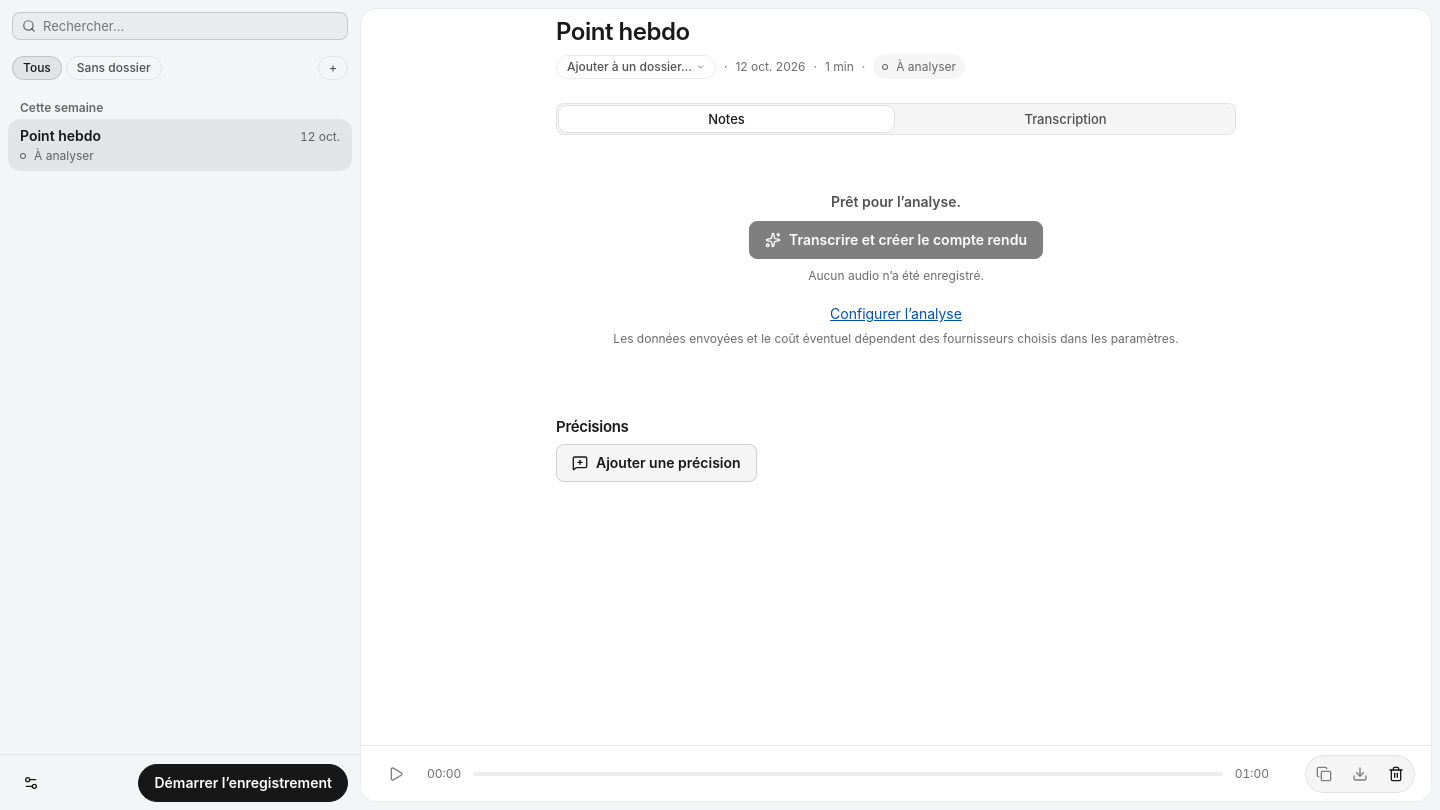
Test: Recording from the list pane › shows the recording in the card and locks the pane meanwhile
Click the button "Démarrer l’enregistrement" at (243, 782), box 138,764 -> 348,802
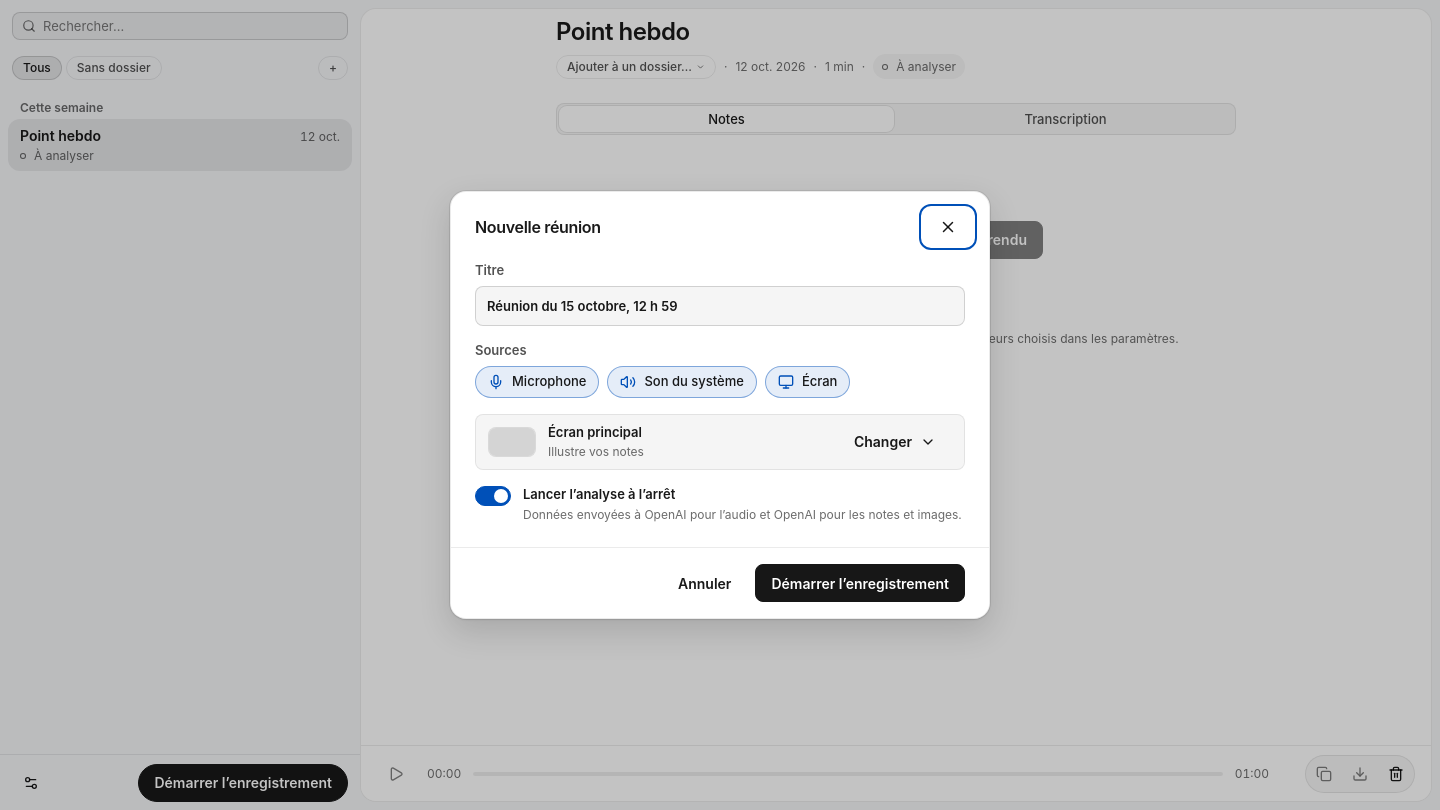
Now the switch is shown, box 475,486 -> 965,523
Replace the text in the field labelled "Titre" with "Revue du vendredi" at (720, 306), box 475,286 -> 965,326
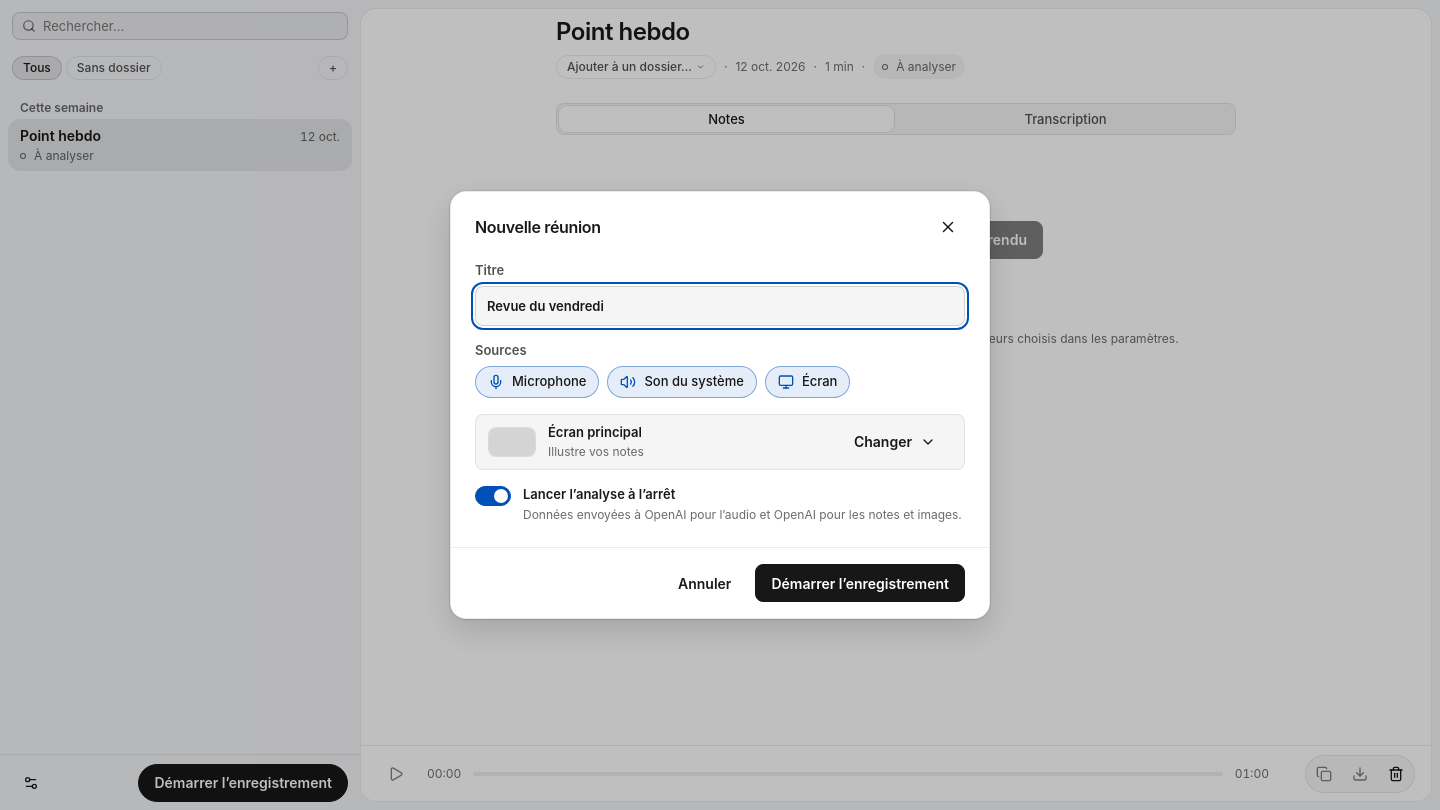
Now the button "Démarrer l’enregistrement" is enabled
Click the button "Démarrer l’enregistrement" at (860, 583), box 755,564 -> 965,602
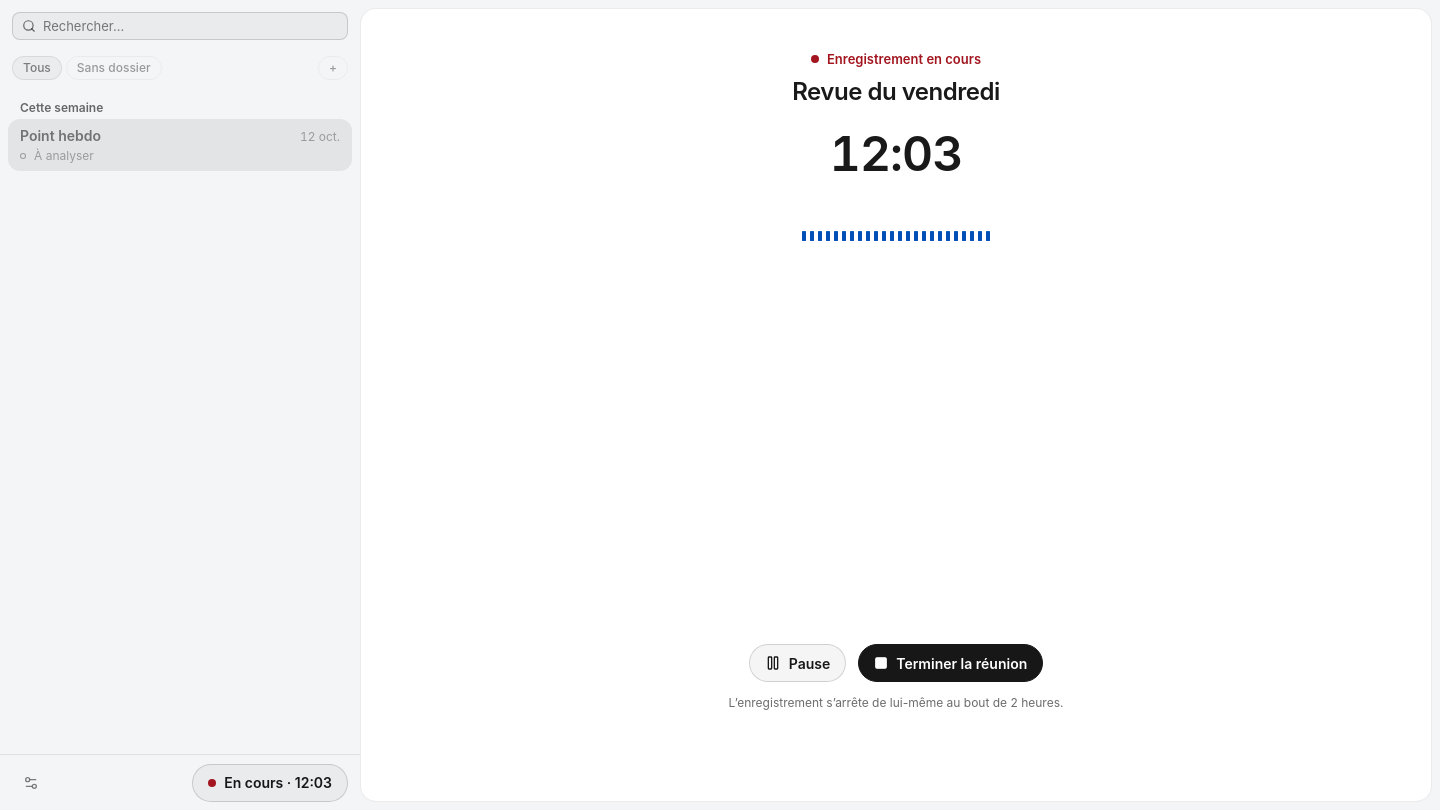
Now the heading "Revue du vendredi" is shown, box 792,77 -> 1000,106
Now the search field is disabled, box 12,12 -> 348,40
Now the button named "Paramètres" is disabled, box 12,764 -> 50,802
